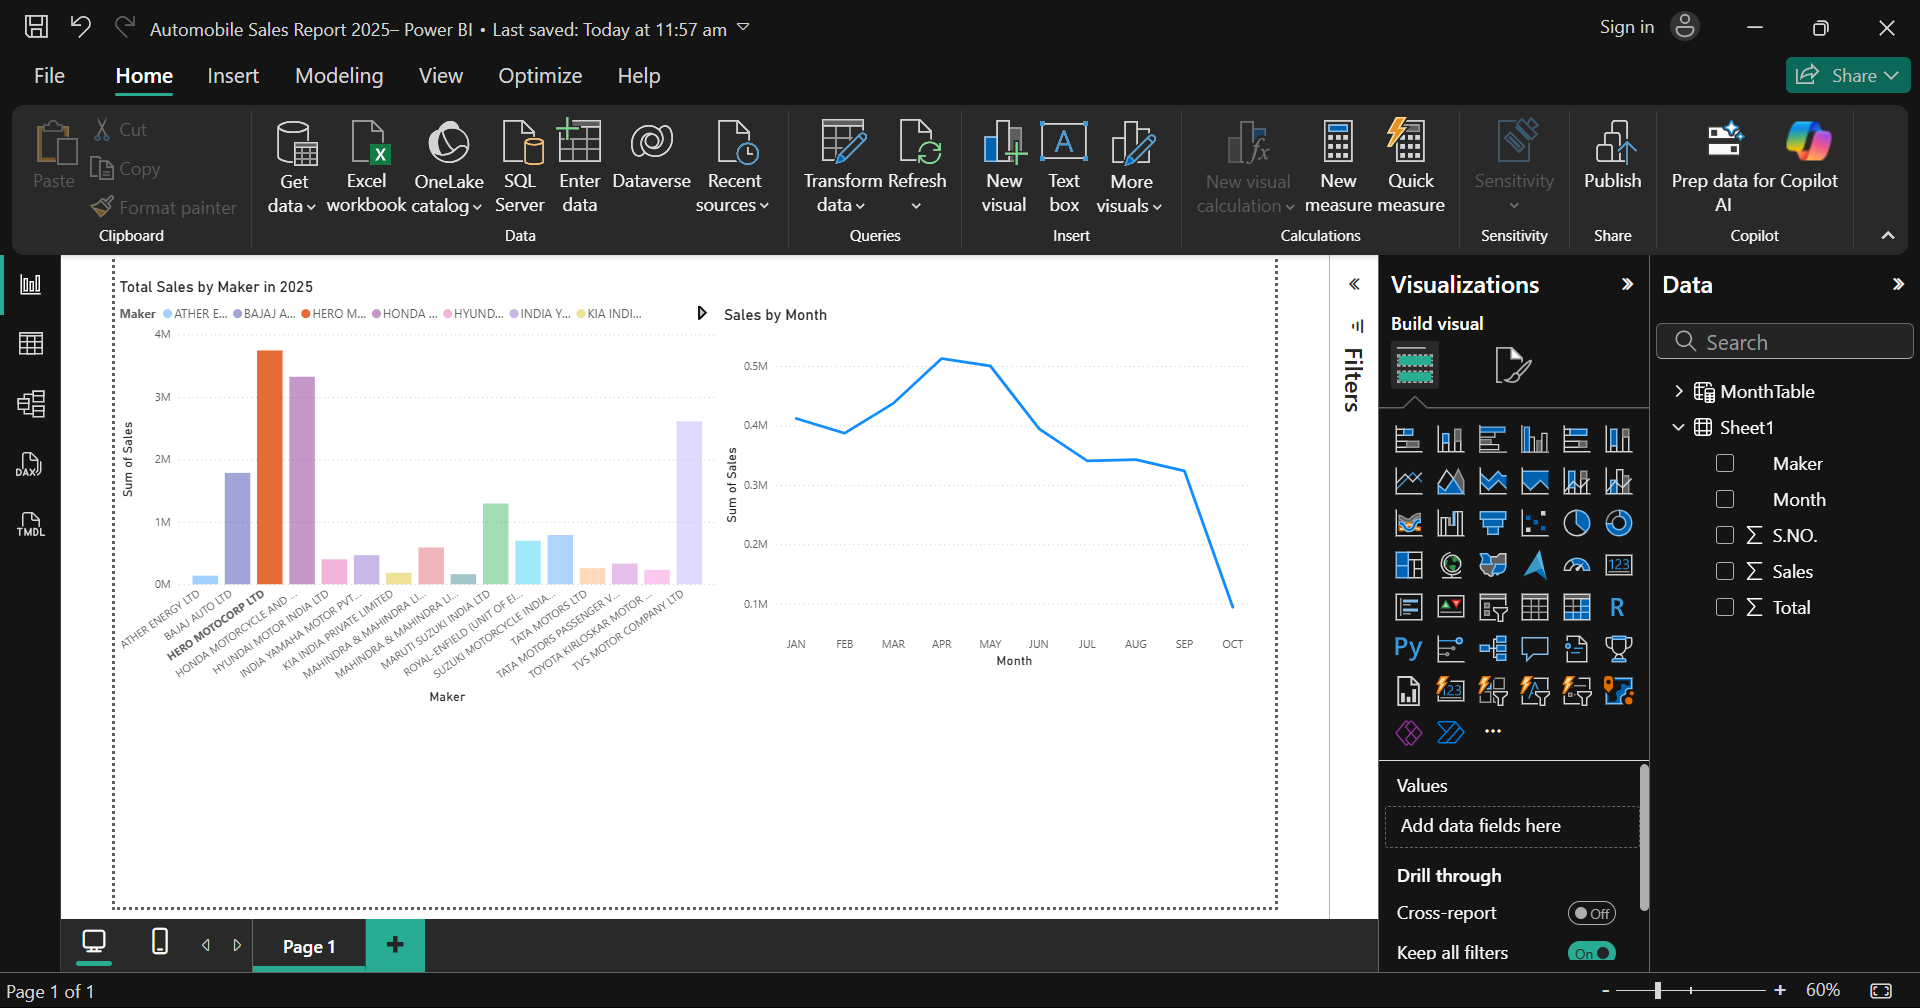

The page's visual inventory and layout, read from the dashboard file:
{"tool":"powerbi","page":{"name":"Page 1","canvas":[1280,720],"ordinal":0},"visuals":[{"type":"clusteredColumnChart","fields":{"Category":["Sheet1.Maker","Sheet1.Month"],"Y":["Sum(Sheet1.Sales)"]},"box":[146.1,13.5,587.6,331.5],"z":0},{"type":"lineChart","fields":{"Y":["Sum(Sheet1.Sales)"],"Category":["MonthTable.Month"]},"box":[146.7,392.2,586.7,327.8],"z":1000}]}

Visuals, with their boxes on the page's 1280x720 design canvas (x1, y1, x2, y2). These are canvas units, not pixel positions in the 1920x1008 screenshot, which may show the page scaled, cropped or inside an application window:
clusteredColumnChart - Sheet1.Maker x Sheet1.Month: (left=146, top=14, right=734, bottom=345)
lineChart - Sum(Sheet1.Sales) x MonthTable.Month: (left=147, top=392, right=733, bottom=720)
